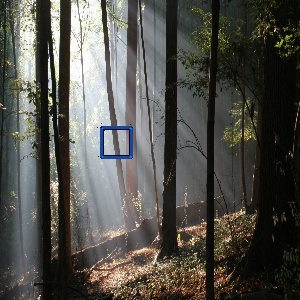square: (98, 124, 136, 160)
